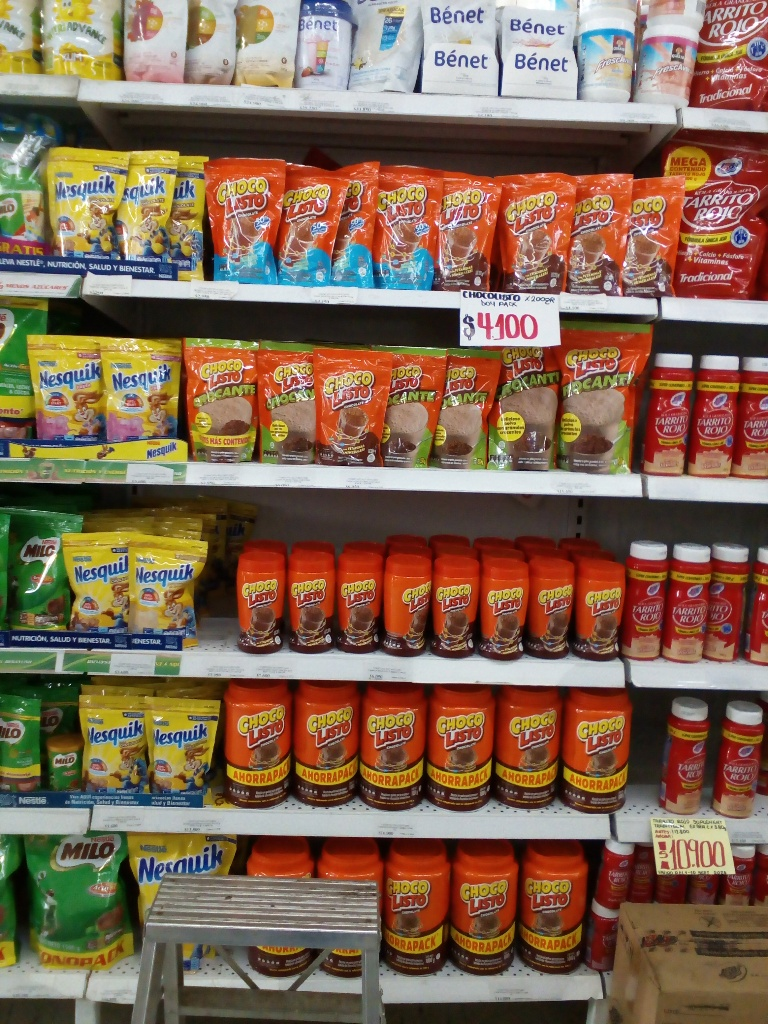COL0170103TRR00100: (381, 837, 450, 974)
COL0170104DYP20000: (200, 150, 280, 281)
COL0170203LAT20000: (41, 730, 86, 797)
COL0170303DYP20000: (41, 146, 125, 266)
COL0170306DYP20000: (126, 529, 210, 650)
